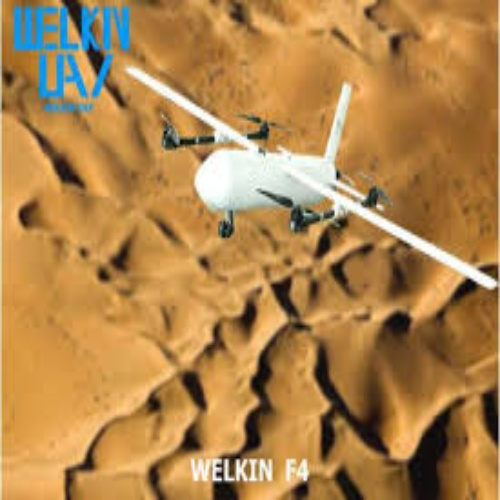uav525: (119, 64, 496, 294)
